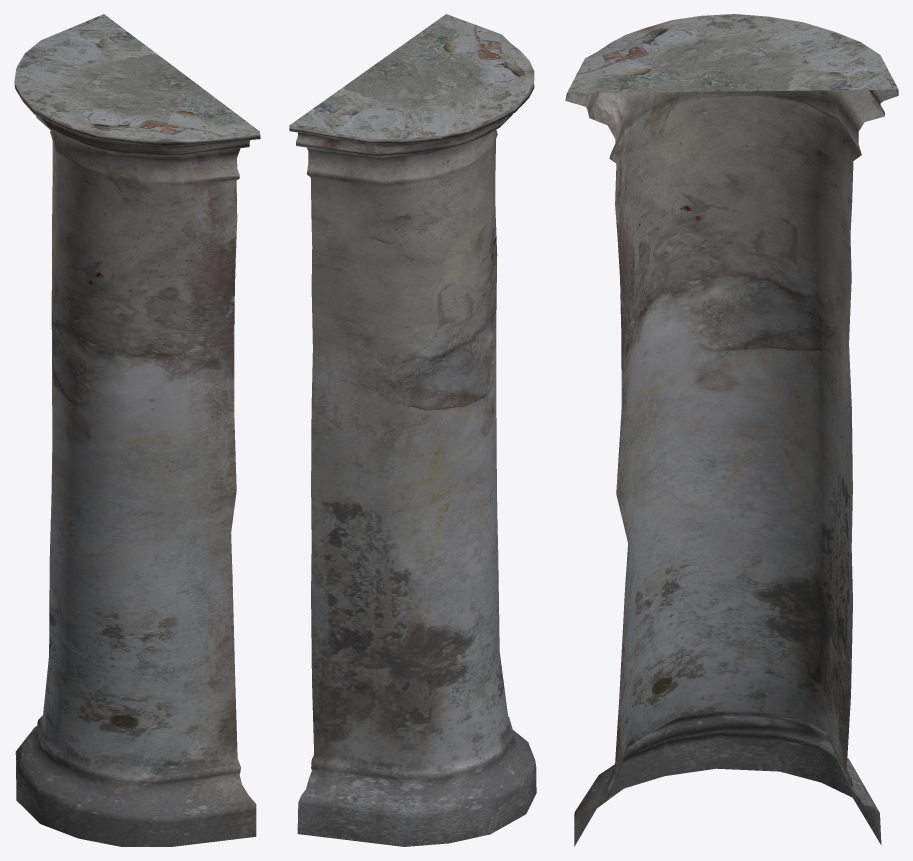
Rendered from sm_CryptColumn_01_04.fbx.
3 renders of one model, left to right at view 1: azimuth 30°, elevation 25°; view 2: azimuth 150°, elevation 25°; view 3: azimuth 270°, elevation 25°, orthographic. The views are drawn at different scales.
Parts seen in each view (by area): view 1: sm_CryptColumn_01_04_LOD0; view 2: sm_CryptColumn_01_04_LOD0; view 3: sm_CryptColumn_01_04_LOD0.
Part boxes in pixels (<box>): sm_CryptColumn_01_04_LOD0: <box>14,14,260,846</box>; sm_CryptColumn_01_04_LOD0: <box>289,14,536,846</box>; sm_CryptColumn_01_04_LOD0: <box>565,14,898,846</box>.
Bounding box in the file's own units: 41.69 × 75.62 × 190.
